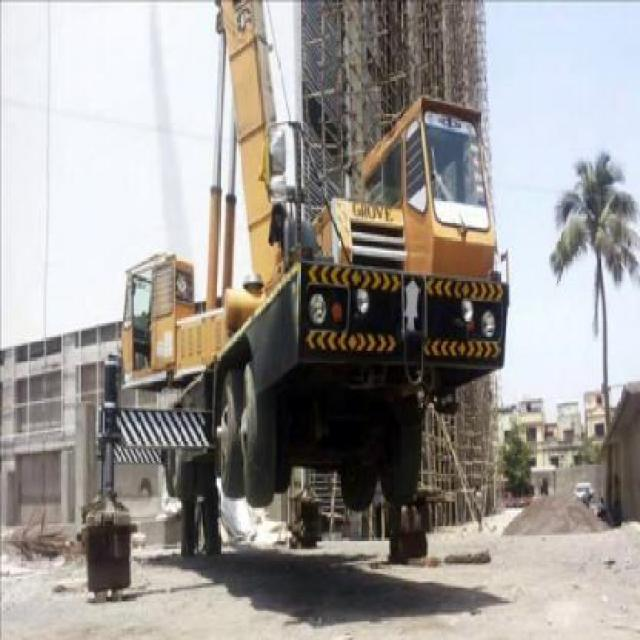Mobile Crane: (87, 0, 508, 503)
